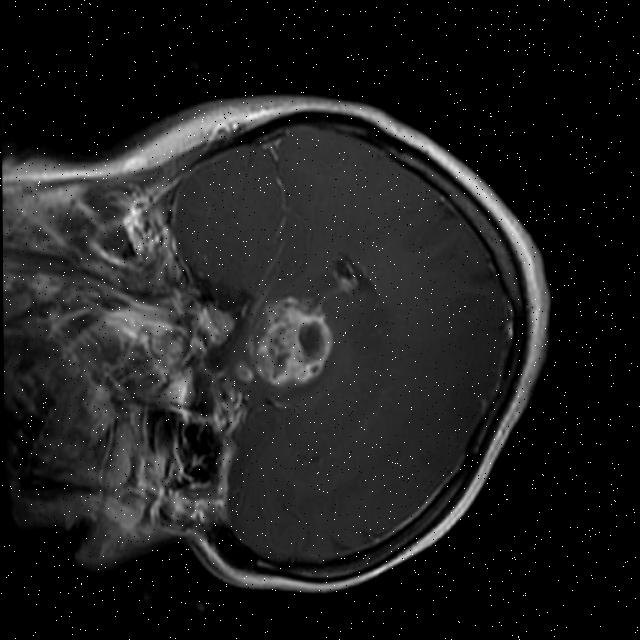Glioma: (233, 287, 334, 390)
Pituitary: (200, 300, 236, 351)
